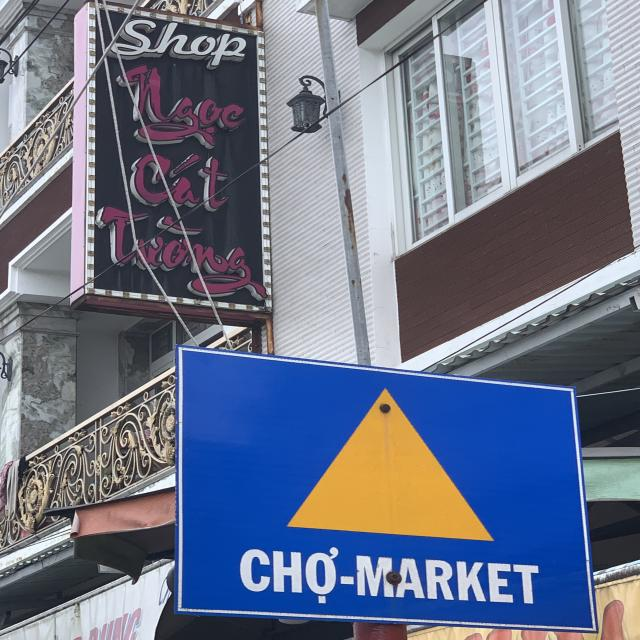Cho_Quay_Xe: (180, 345, 596, 626)
